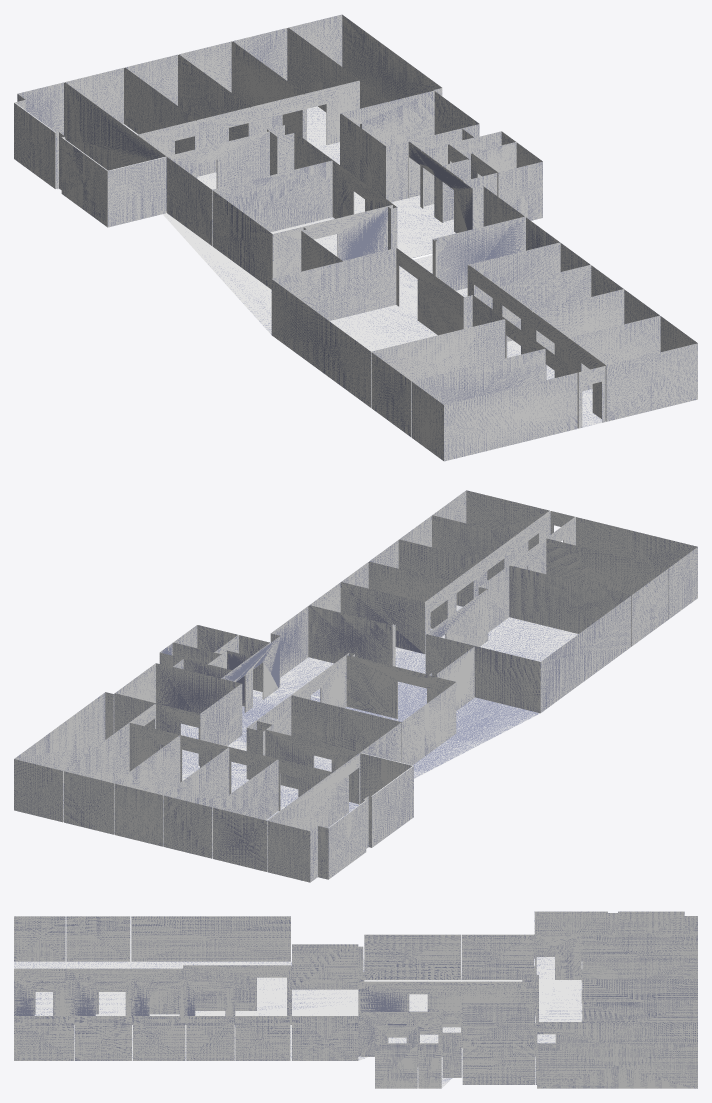
File: dasygBeta.fbx
The picture shows the model from 3 angles, top to bottom: view 1: azimuth 30°, elevation 25°; view 2: azimuth 150°, elevation 25°; view 3: azimuth 270°, elevation 25°; orthographic projection. The views are drawn at different scales.
Parts seen in each view (by area): view 1: Model; view 2: Model; view 3: Model.
Boxes of the visible parts, box(x1,y1,x2,y2) form: Model: box(14, 14, 697, 461); Model: box(14, 490, 697, 882); Model: box(14, 911, 697, 1088).
Bounding box in the file's own units: 18.75 × 3 × 41.1.
